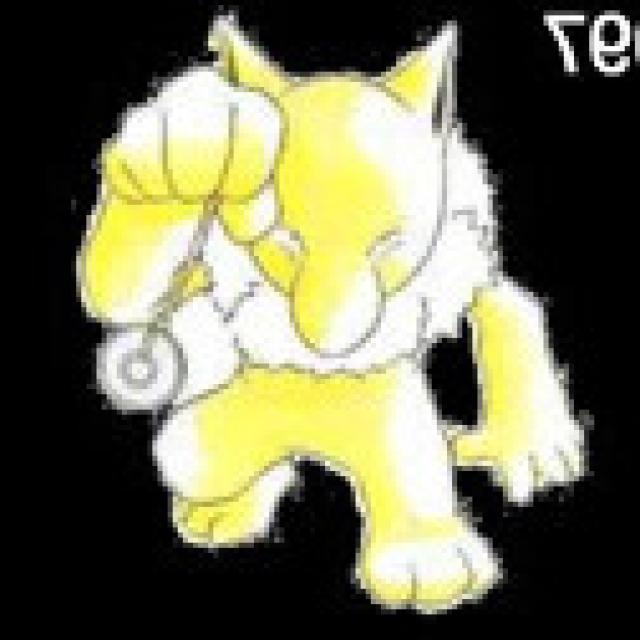Hypno: (63, 21, 590, 612)
